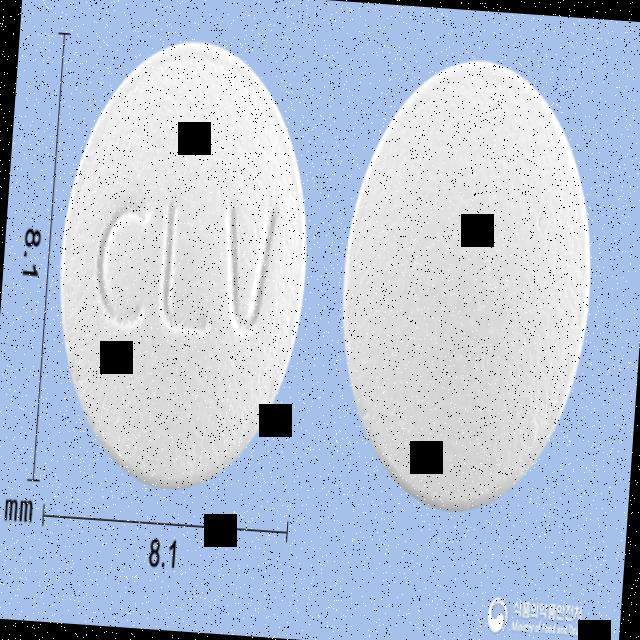Clevote: (45, 28, 322, 498)
